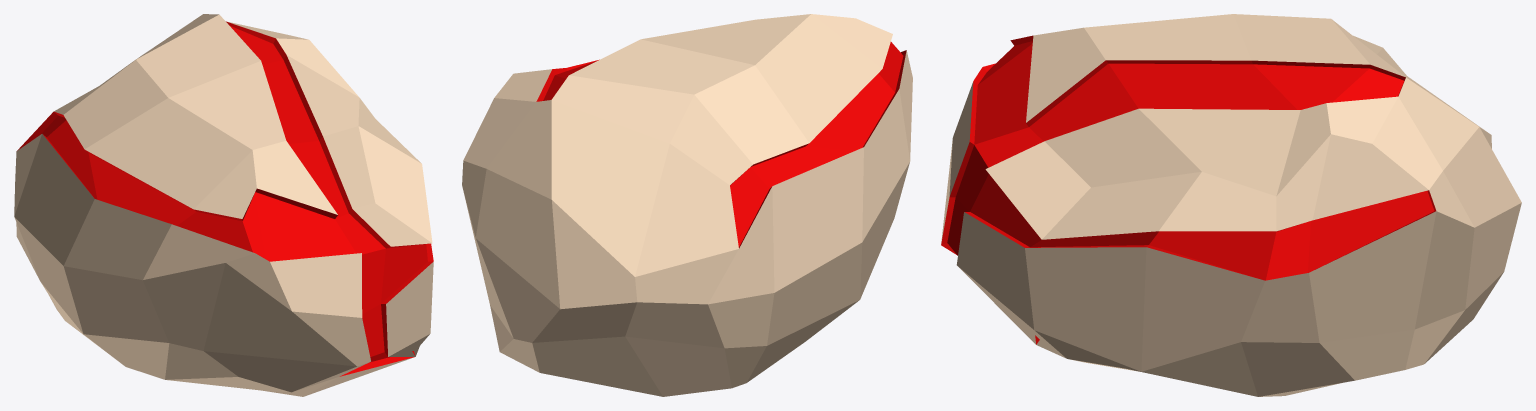
File: MineralNode_11_B.fbx
3 views of the same model, side by side, from view 1: azimuth 30°, elevation 25°; view 2: azimuth 150°, elevation 25°; view 3: azimuth 270°, elevation 25° (orthographic). The views are drawn at different scales.
Visible parts, largest first — view 1: MineralNode_11_B; view 2: MineralNode_11_B; view 3: MineralNode_11_B.
Part boxes in pixels (<box>): MineralNode_11_B: <box>14,14,433,396</box>; MineralNode_11_B: <box>462,14,912,396</box>; MineralNode_11_B: <box>941,14,1521,396</box>.
Size of the model in its own units: 77.67 by 59.42 by 103.
